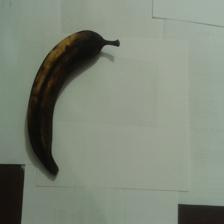Banana Rotten: (15, 22, 89, 184)
